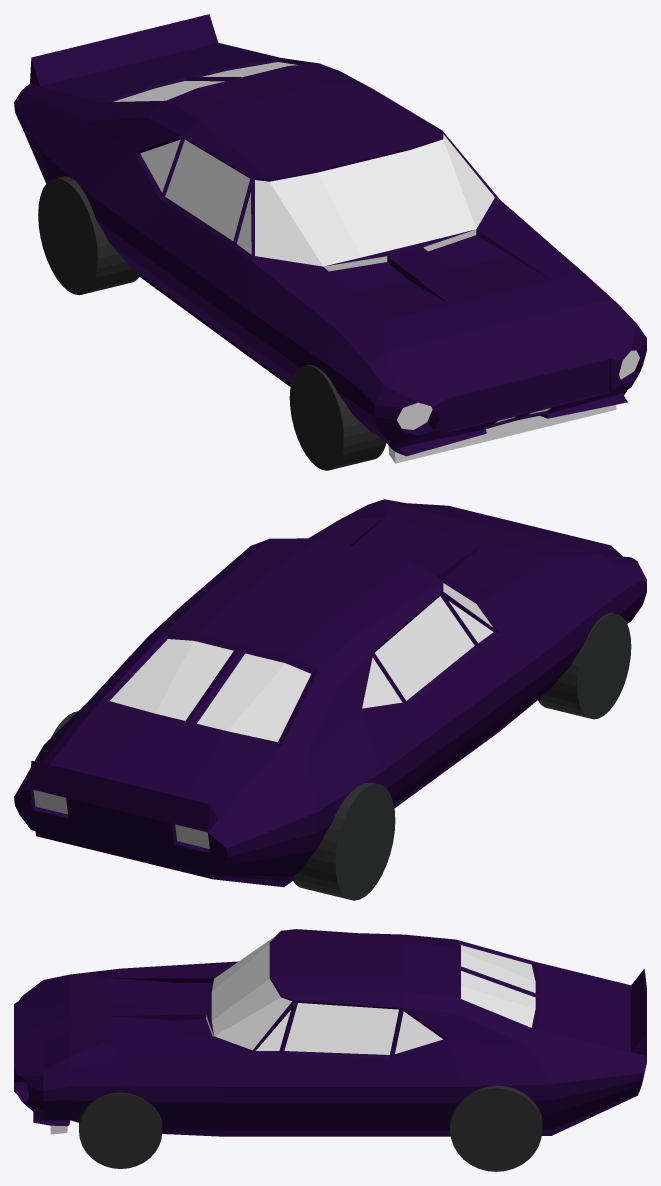
File: Car.fbx
3 views of the same model, one above another, from view 1: azimuth 30°, elevation 25°; view 2: azimuth 150°, elevation 25°; view 3: azimuth 270°, elevation 25° (orthographic). The views are drawn at different scales.
Visible parts, largest first — view 1: Cube; view 2: Cube; view 3: Cube.
Part boxes in pixels (box(x1,y1,x2,y2)): Cube: box(14, 14, 646, 470); Cube: box(14, 499, 646, 900); Cube: box(14, 929, 646, 1171).
Bounding box in the file's own units: 121 × 78.9 × 289.
